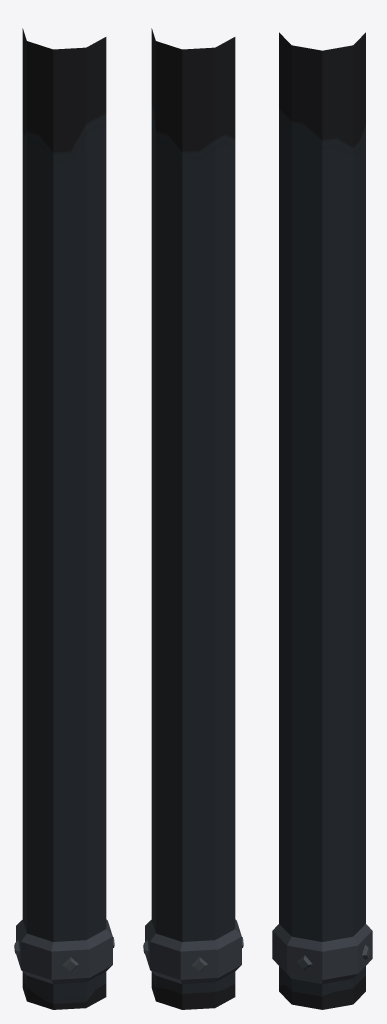
Rendered from SM_Stove_Pipe_C.gltf.
3 renders of one model, left to right at view 1: azimuth 30°, elevation 25°; view 2: azimuth 210°, elevation 25°; view 3: azimuth 270°, elevation 25°, orthographic.
Visible parts, largest first — view 1: SM_Stove_Pipe_C; view 2: SM_Stove_Pipe_C; view 3: SM_Stove_Pipe_C.
Part boxes in pixels (x1=…): SM_Stove_Pipe_C: x1=14, y1=28, x2=114, y2=1009; SM_Stove_Pipe_C: x1=143, y1=28, x2=243, y2=1009; SM_Stove_Pipe_C: x1=272, y1=32, x2=372, y2=1009.
Bounding box in the file's own units: 0.2835 × 3 × 0.2835.
1 material, 1 textured.
